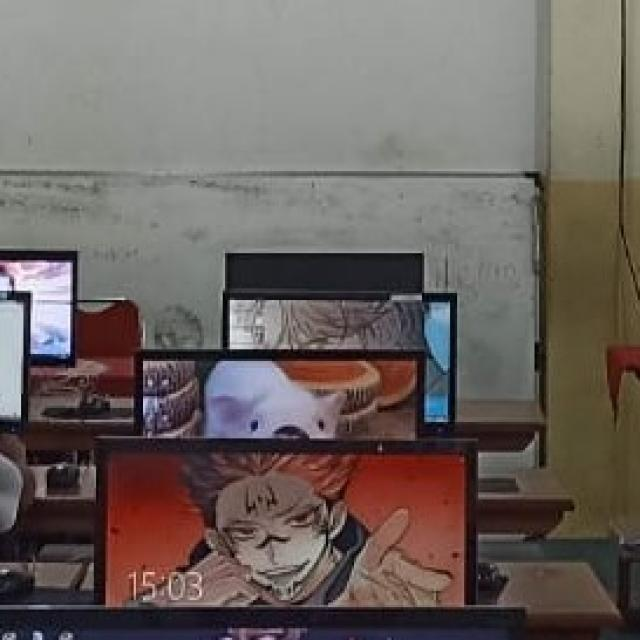offscreen: (226, 254, 422, 294)
onscreen: (95, 441, 474, 606), (228, 294, 455, 423), (134, 350, 424, 438), (0, 250, 78, 362), (0, 301, 24, 421)
